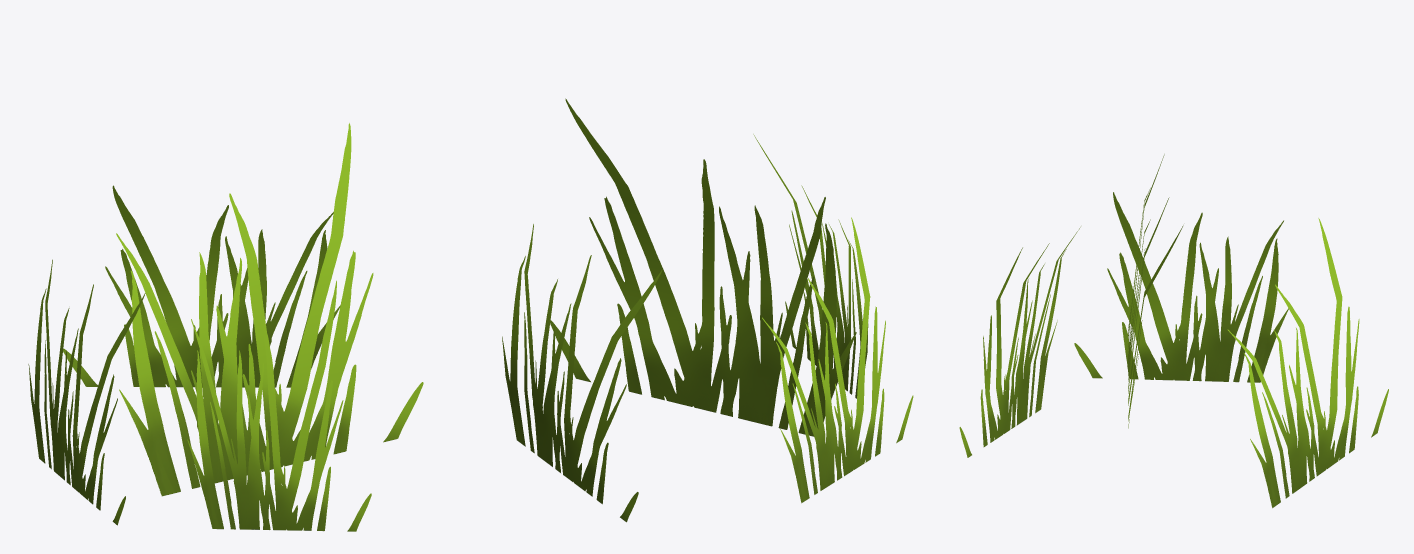
File: Grass_Bunch_2.fbx
3 views of the same model, side by side, from view 1: azimuth 30°, elevation 25°; view 2: azimuth 150°, elevation 25°; view 3: azimuth 270°, elevation 25° (orthographic). The views are drawn at different scales.
Visible parts, largest first — view 1: Grass_Bunch_2; view 2: Grass_Bunch_2; view 3: Grass_Bunch_2.
Part boxes in pixels (left/top/right/bottom): Grass_Bunch_2: left=28, top=123, right=423, bottom=531; Grass_Bunch_2: left=502, top=98, right=913, bottom=522; Grass_Bunch_2: left=959, top=154, right=1388, bottom=508.
Size of the model in its own units: 1.05 by 1.05 by 1.18.
